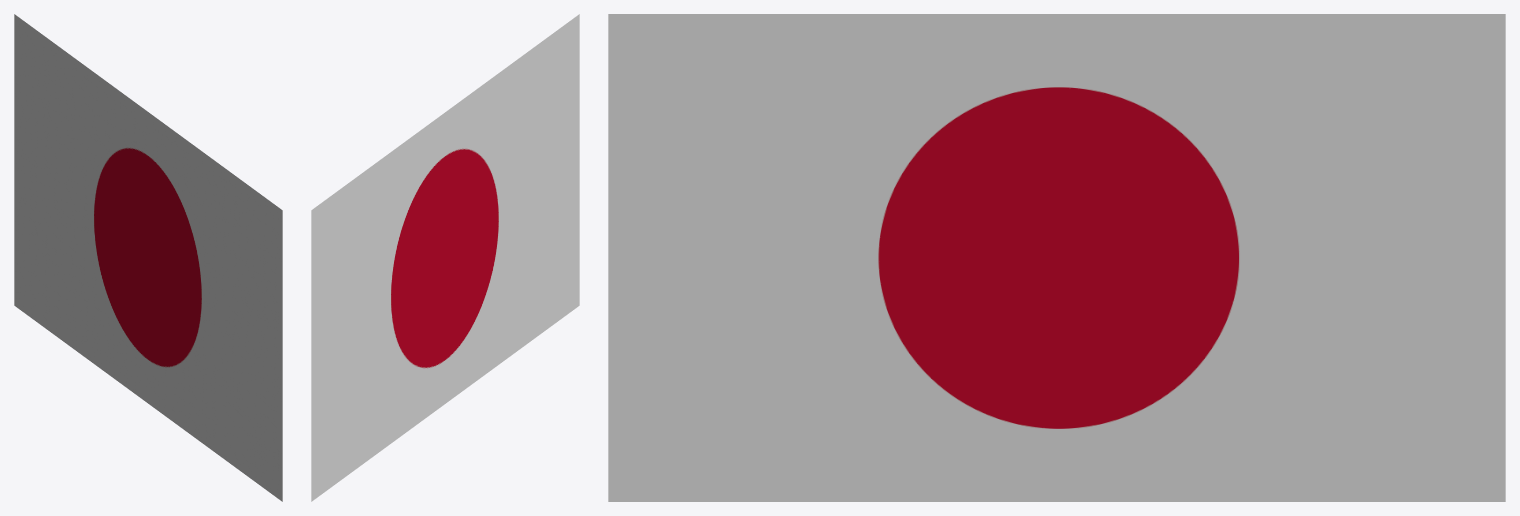
Rendered from Japon.glb.
3 views of the same model, side by side, from view 1: azimuth 30°, elevation 25°; view 2: azimuth 150°, elevation 25°; view 3: azimuth 270°, elevation 25° (orthographic). The views are drawn at different scales.
Visible parts, largest first — view 1: Flag; view 2: Flag; view 3: Flag.
Part boxes in pixels (x1,y1,x2,y2): Flag: [14, 14, 282, 501]; Flag: [311, 14, 579, 501]; Flag: [608, 14, 1505, 501].
Bounding box in the file's own units: 2.09e-07 × 0.9 × 1.5.
1 material, 1 textured.
